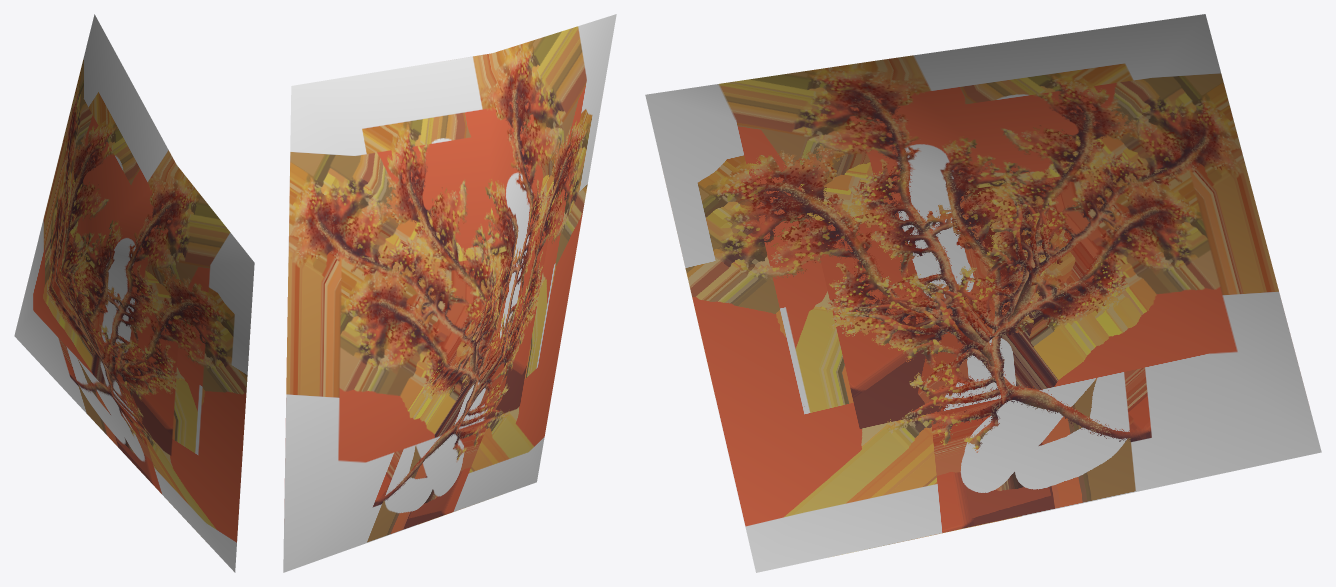
The model's file is soft coral sheet.fbx.
The picture shows the model from 3 angles, left to right: view 1: azimuth 30°, elevation 25°; view 2: azimuth 150°, elevation 25°; view 3: azimuth 270°, elevation 25°; orthographic projection. The views are drawn at different scales.
Parts seen in each view (by area): view 1: softa coral 2; view 2: softa coral 2; view 3: softa coral 2.
Part boxes in pixels (bbox=[...]): softa coral 2: bbox=[14, 14, 254, 572]; softa coral 2: bbox=[283, 14, 616, 572]; softa coral 2: bbox=[645, 14, 1321, 572].
Bounding box in the file's own units: 41.8 × 183 × 194.
1 material, 1 textured.
